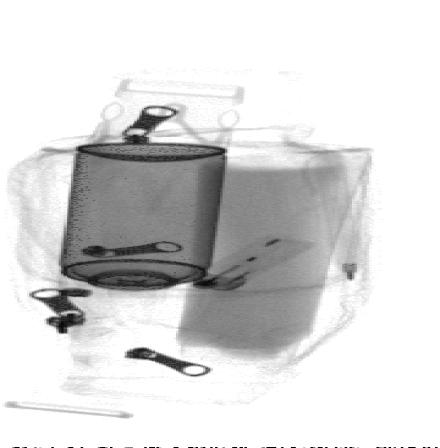Lighter: (183, 233, 320, 293)
Sprayer: (60, 143, 227, 326)
